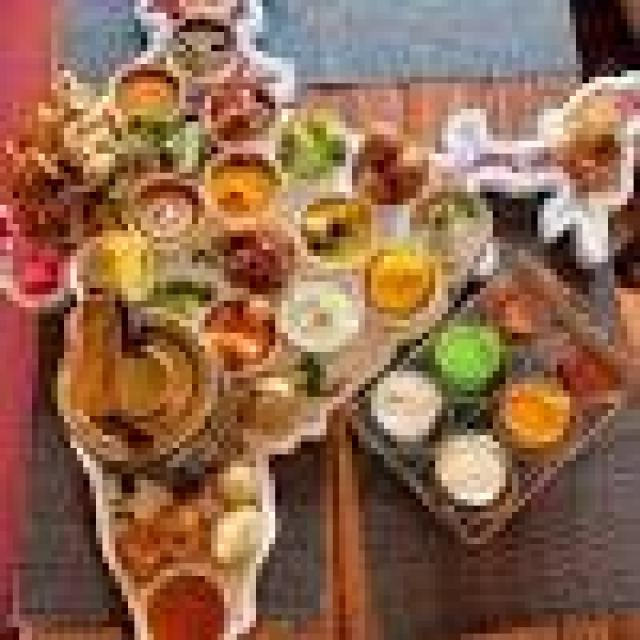curd: (363, 365, 454, 448)
dal: (484, 371, 582, 457)
raita: (264, 264, 371, 358), (363, 361, 454, 449)
rice: (296, 196, 386, 272)
sweet: (197, 56, 284, 154), (364, 239, 443, 323), (112, 70, 191, 130)
